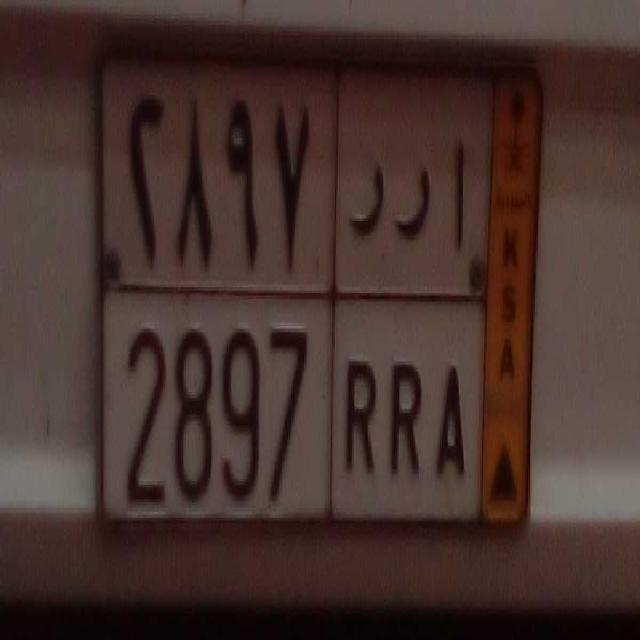license_plate: (104, 285, 484, 539)
